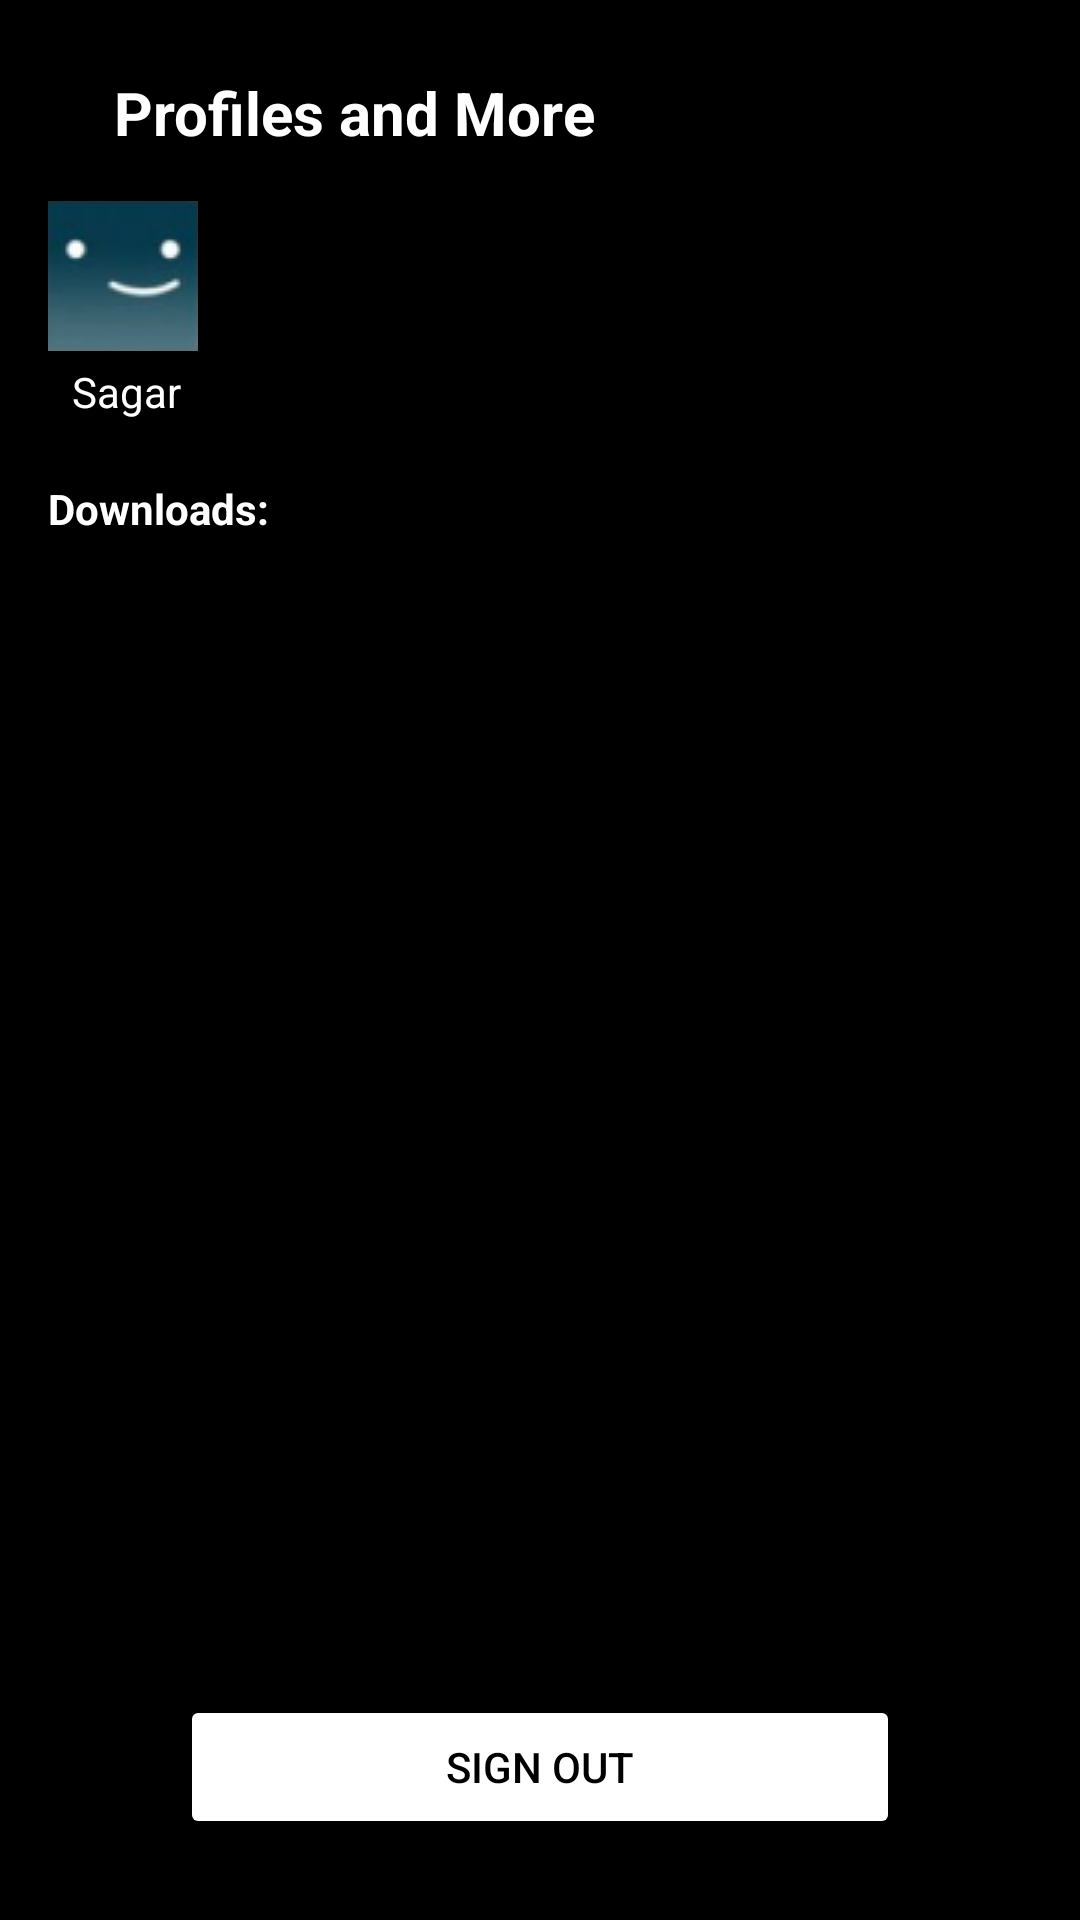

Icons on this 1080px x 1920px Android screen, each with the point to tap as point (x, y):
user: point (123, 276)
